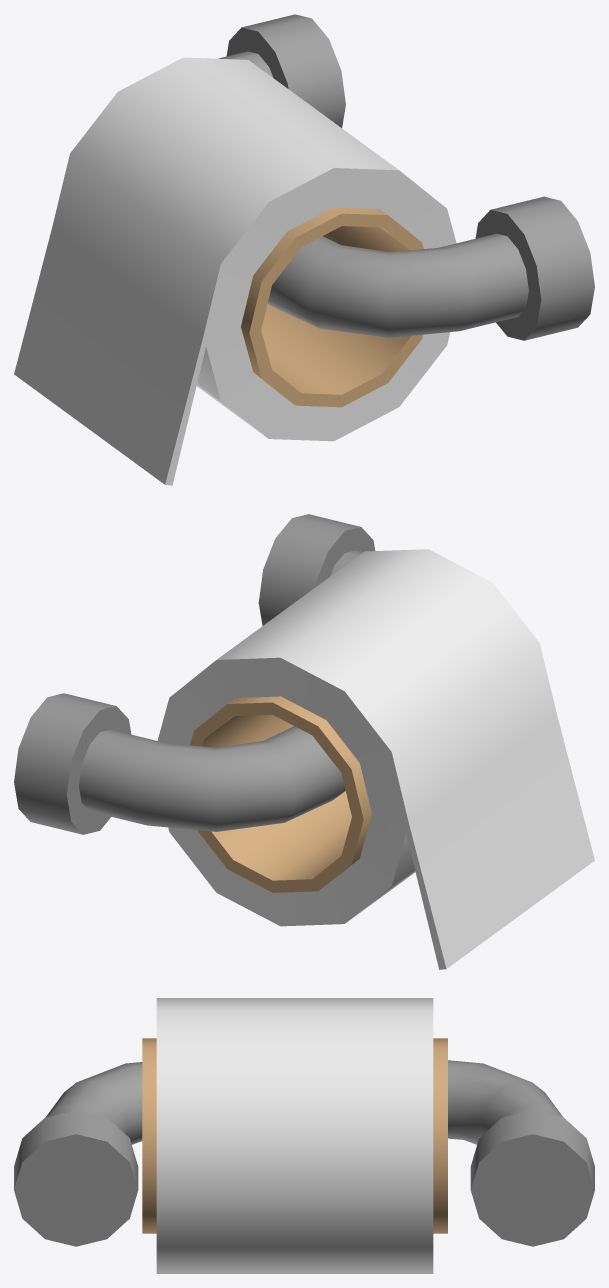
File: Toilet Napkin01.fbx
The picture shows the model from 3 angles, top to bottom: view 1: azimuth 30°, elevation 25°; view 2: azimuth 150°, elevation 25°; view 3: azimuth 270°, elevation 25°; orthographic projection. The views are drawn at different scales.
Parts seen in each view (by area): view 1: Toilet Napkin01; view 2: Toilet Napkin01; view 3: Toilet Napkin01.
Part boxes in pixels (box(x1,y1,x2,y2)): Toilet Napkin01: box(14, 14, 594, 485); Toilet Napkin01: box(14, 514, 594, 969); Toilet Napkin01: box(14, 998, 594, 1273).
Bounding box in the file's own units: 0.143 × 0.2227 × 0.1079.
